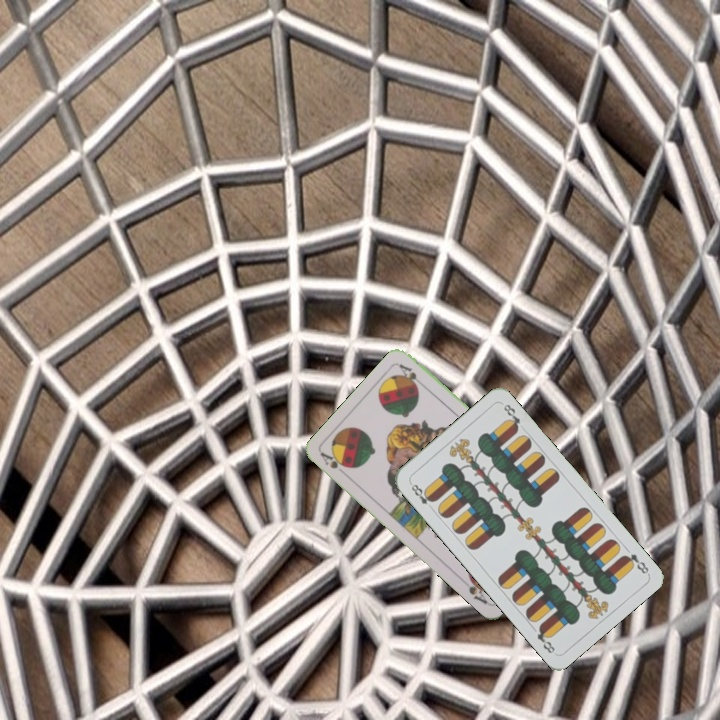E8: (618, 549, 651, 577), (406, 478, 437, 507)
SA: (317, 449, 352, 480)
